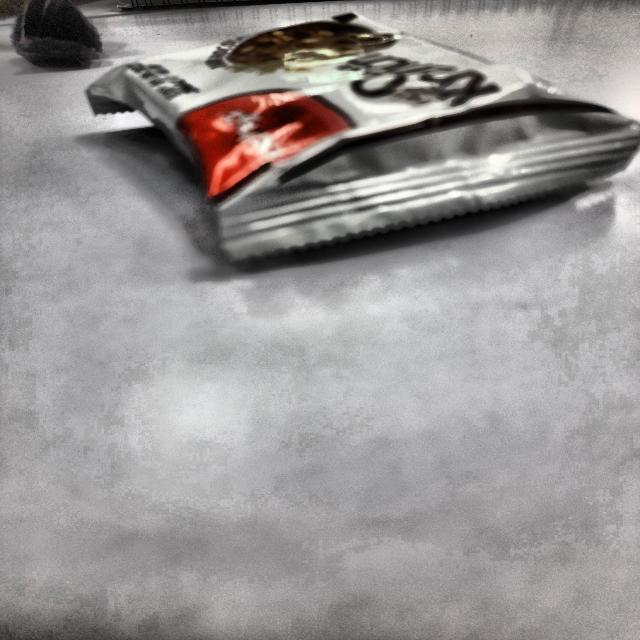Plastic: (135, 26, 638, 240)
